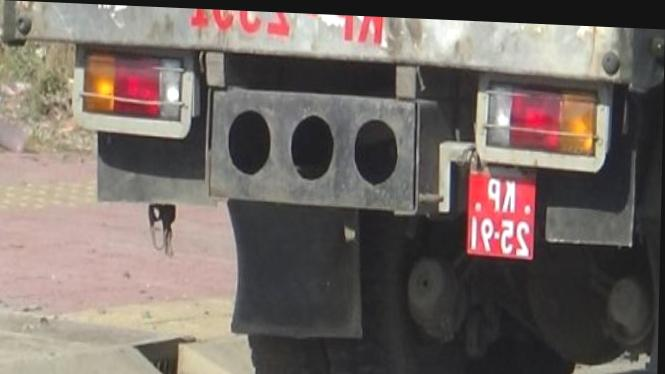License_Plate: (468, 174, 540, 258)
